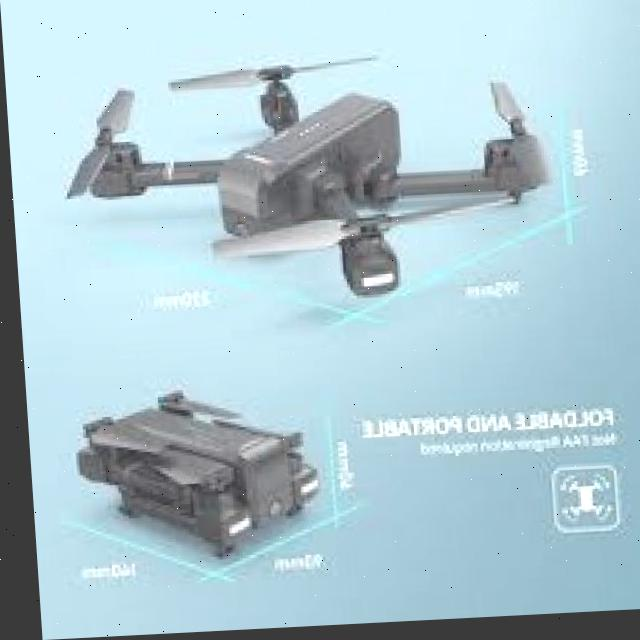drone: (49, 32, 603, 334)
